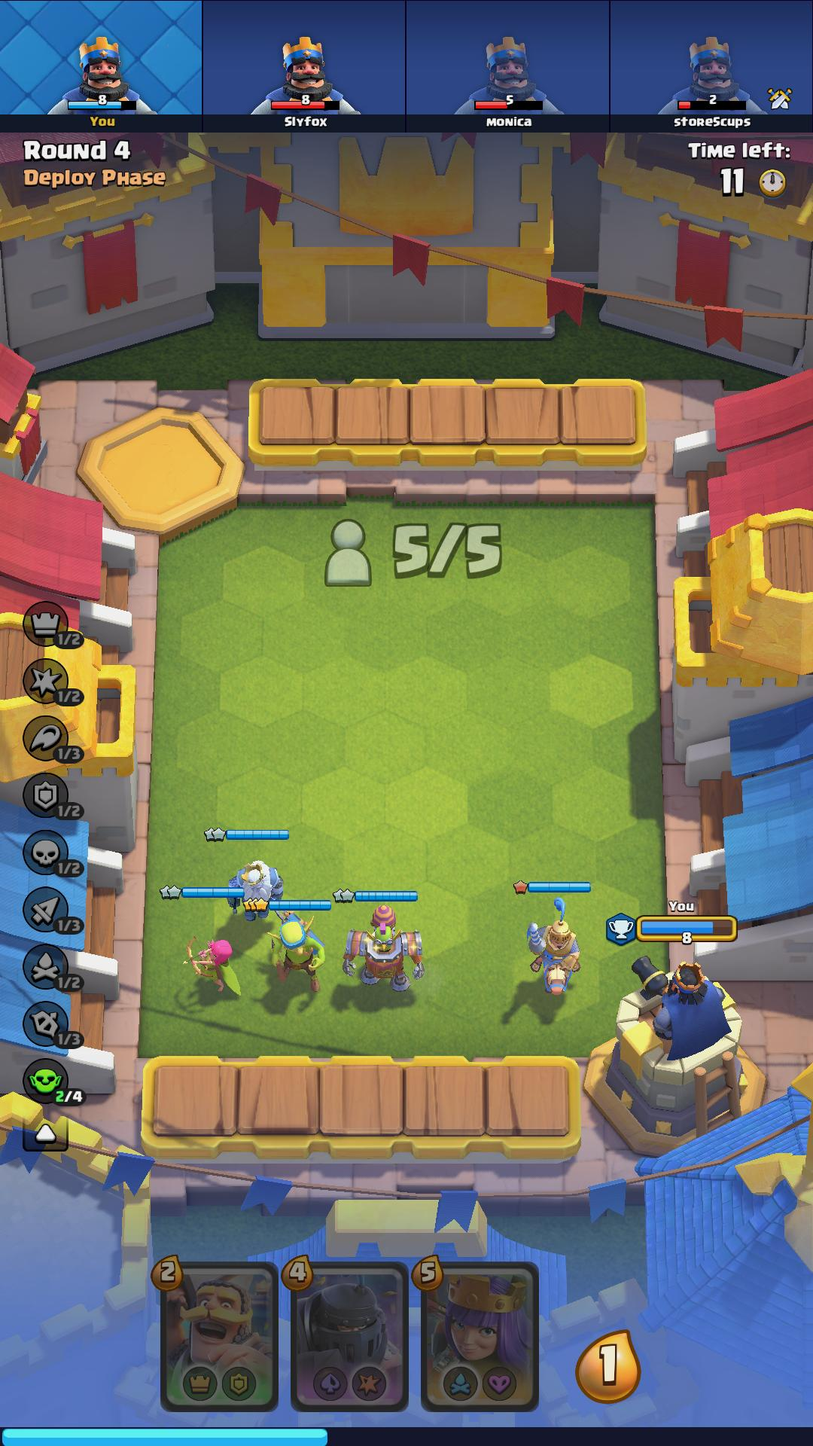archer: (174, 923, 245, 1007)
ghost: (215, 852, 290, 918)
hand-knight: (162, 1267, 282, 1408)
hand-mega: (297, 1265, 408, 1410)
hand-queen: (423, 1264, 534, 1411)
machine: (339, 905, 425, 993)
prince: (514, 896, 593, 997)
spear: (263, 918, 331, 995)
